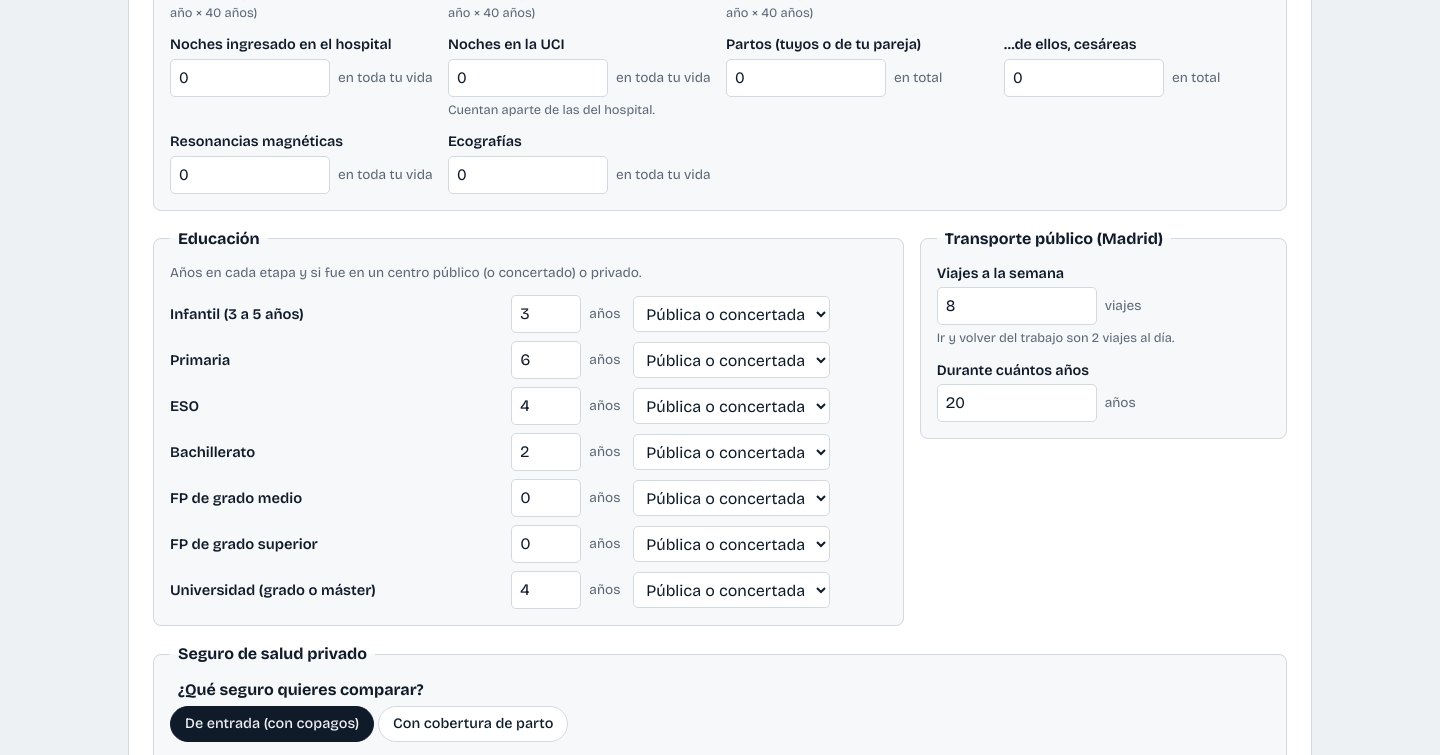
Test: Simulador › servicios: elegir colegio privado cambia lo que paga la familia
(page scrolled)
Select "Privada" in the 2nd dropdown named "Tipo de centro en Primaria" at (732, 360), box [633,342,830,378]
(page scrolled)
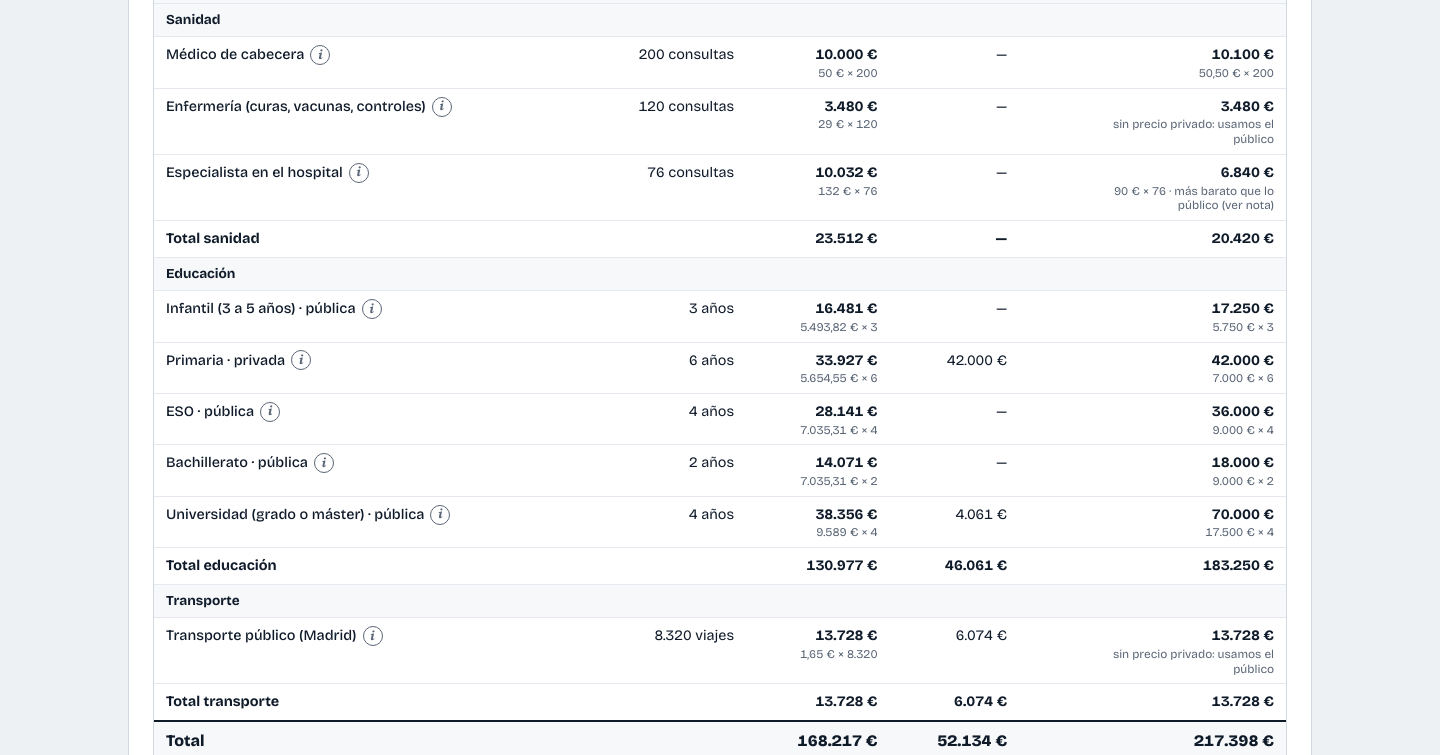
Now the text "Primaria · privada i" is shown, box [166,350,311,371]
